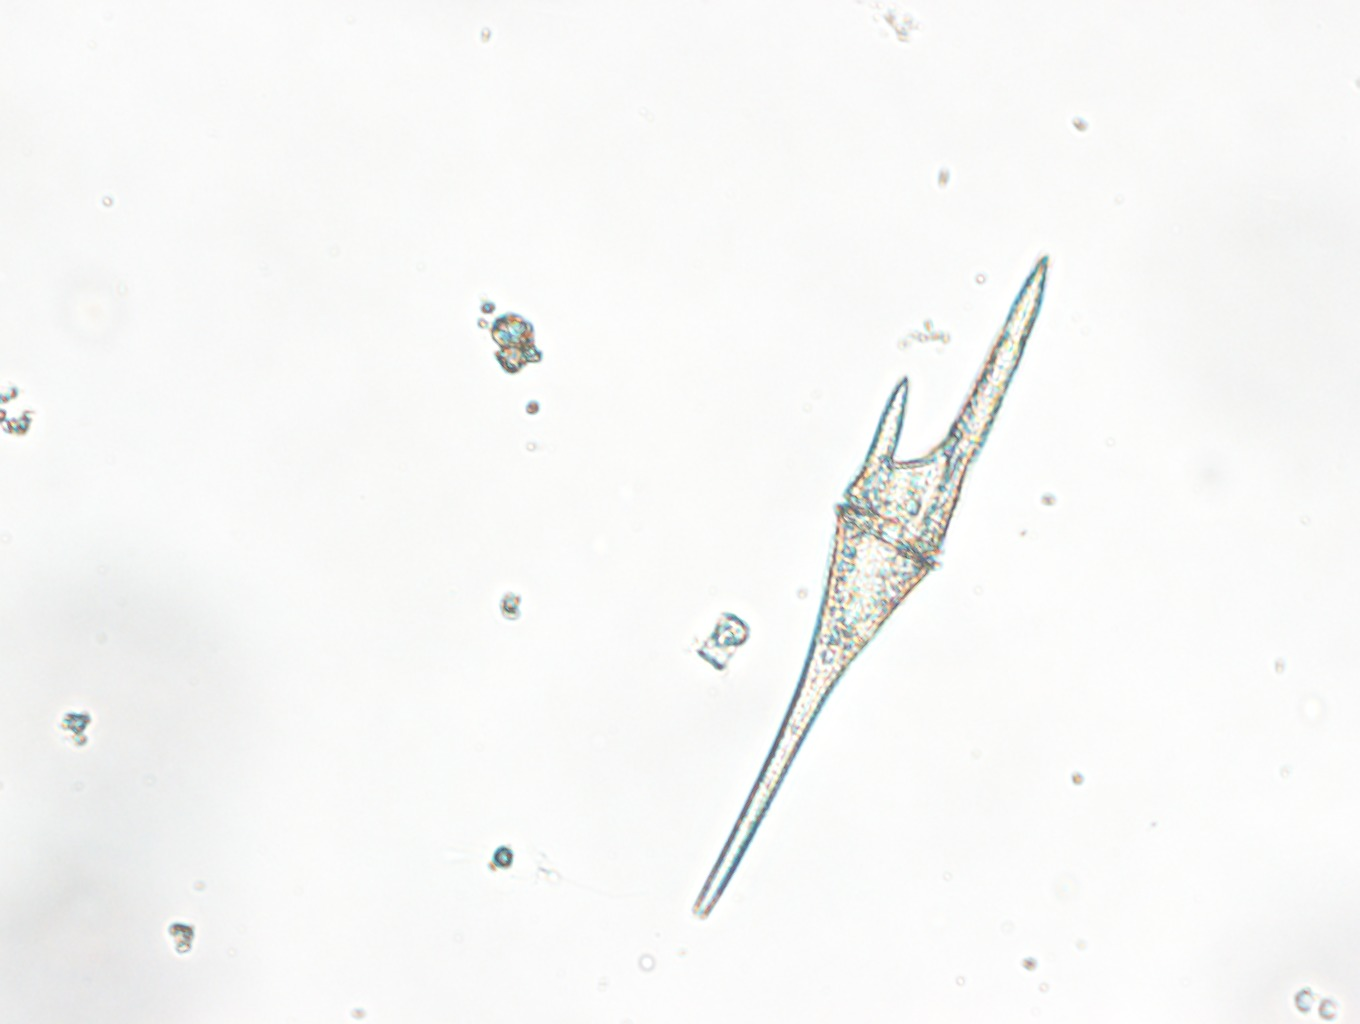ceratium furca: (689, 257, 1048, 920)
